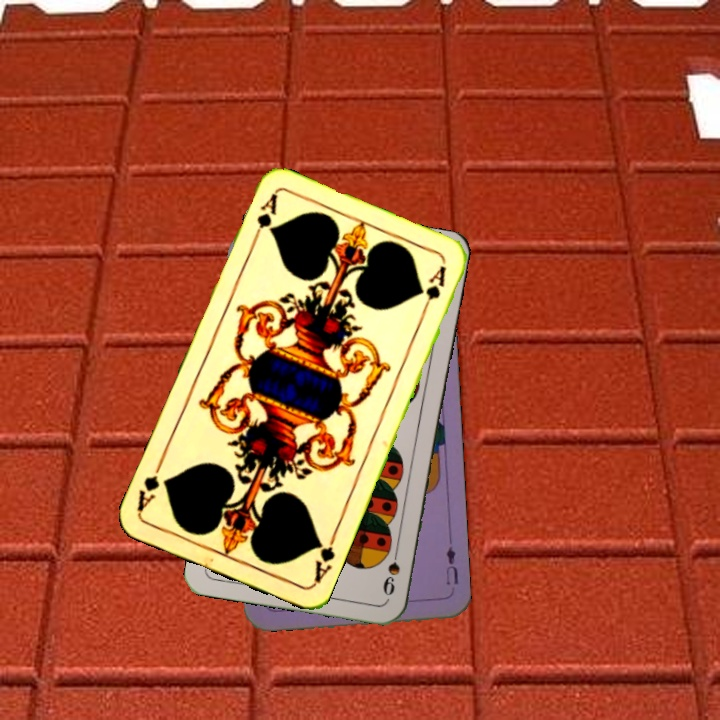EU: (441, 542, 461, 588)
GA: (247, 189, 280, 246), (310, 529, 339, 586)
S9: (378, 541, 403, 599)
